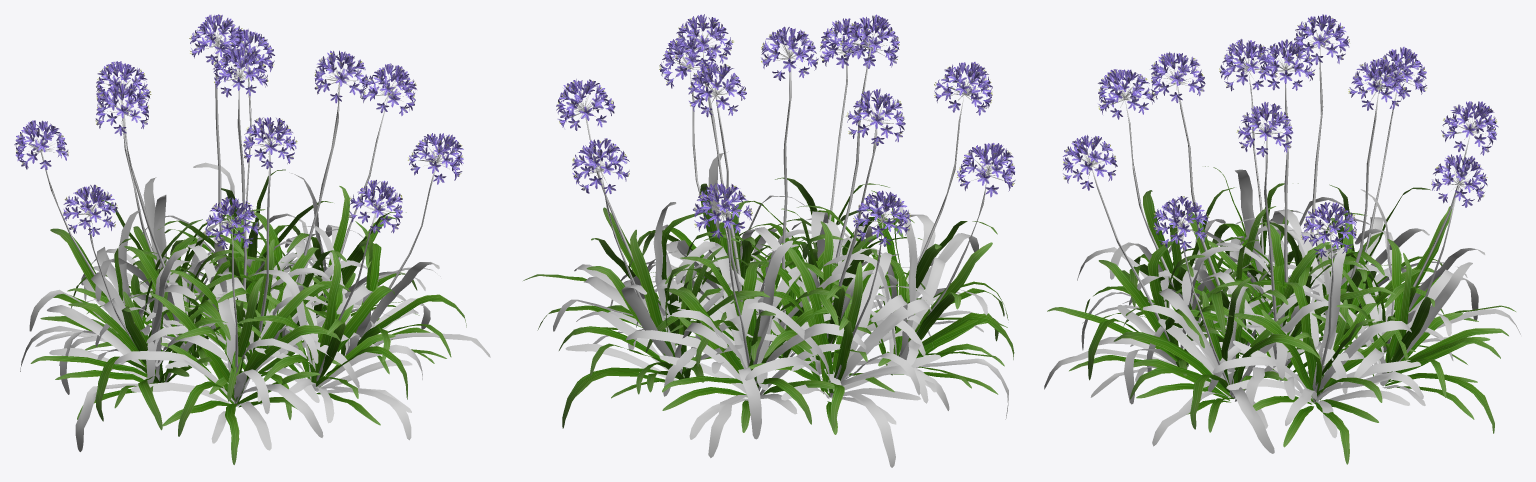
The model's file is agapanthe-1.gltf.
3 views of the same model, side by side, from view 1: azimuth 30°, elevation 25°; view 2: azimuth 150°, elevation 25°; view 3: azimuth 270°, elevation 25° (orthographic). The views are drawn at different scales.
Parts seen in each view (by area): view 1: agapanthe-1; view 2: agapanthe-1; view 3: agapanthe-1.
Part boxes in pixels (left/top/right/bottom): agapanthe-1: left=14, top=14, right=490, bottom=464; agapanthe-1: left=523, top=14, right=1015, bottom=467; agapanthe-1: left=1044, top=14, right=1520, bottom=464.
Bounding box in the file's own units: 1.39 × 1.09 × 1.35.
